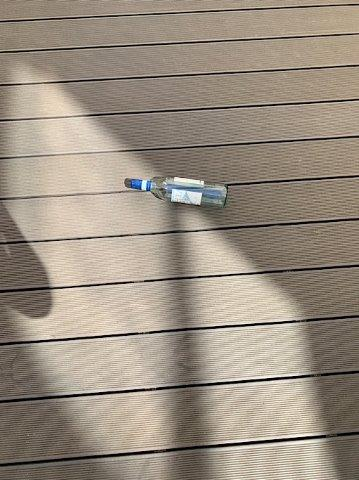botolkaca: (126, 175, 229, 212)
